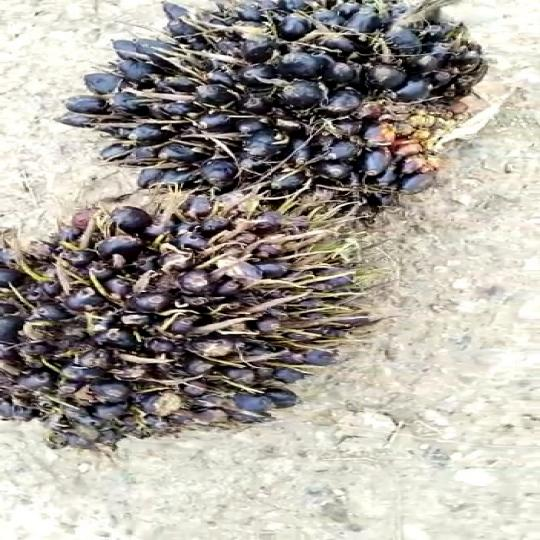mentah: (53, 0, 502, 232), (0, 186, 362, 470)
